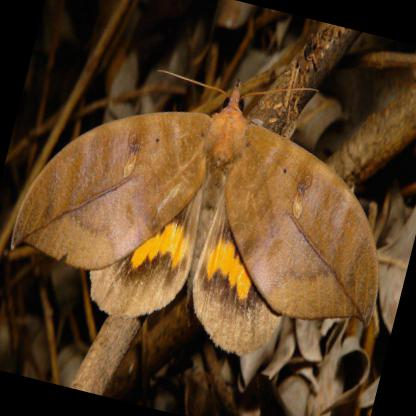fruit sucking moth: (14, 81, 380, 355)
